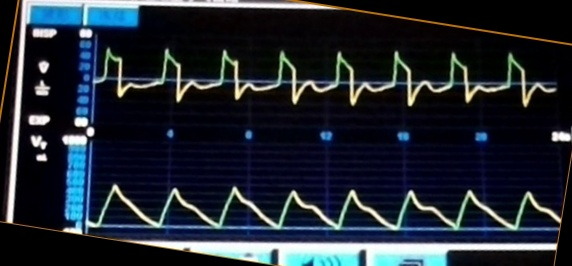Premature_cycling Flow: (98, 44, 557, 120)
Premature_cycling Volume: (93, 164, 559, 234)
